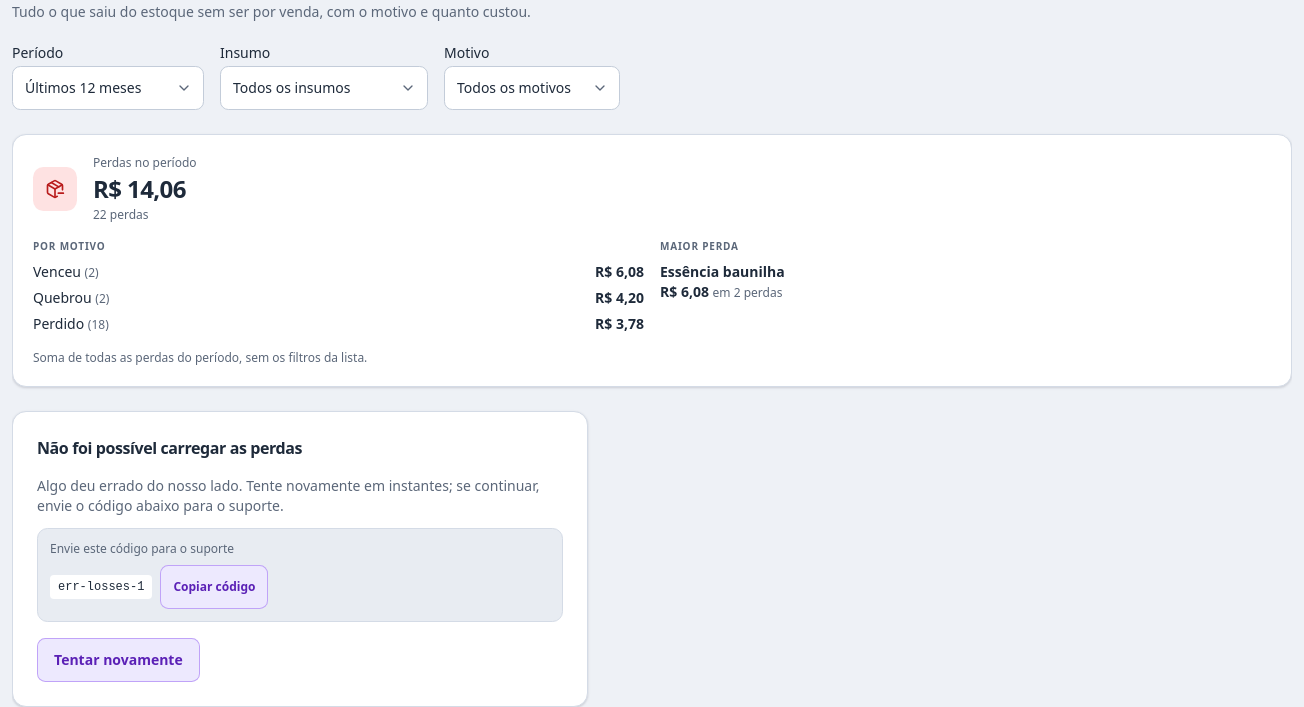
Test case: the loss history › shows the support code of an unexpected failure, and tries again on request
(page scrolled)
Expected: the heading "Não foi possível carregar as perdas" is shown, [37,436,302,460]
Expected: the text "err-losses-1" is shown, [50,575,152,599]
Step 1. Click the button "Tentar novamente" → (118, 660), box [37,638,200,682]
(page scrolled)
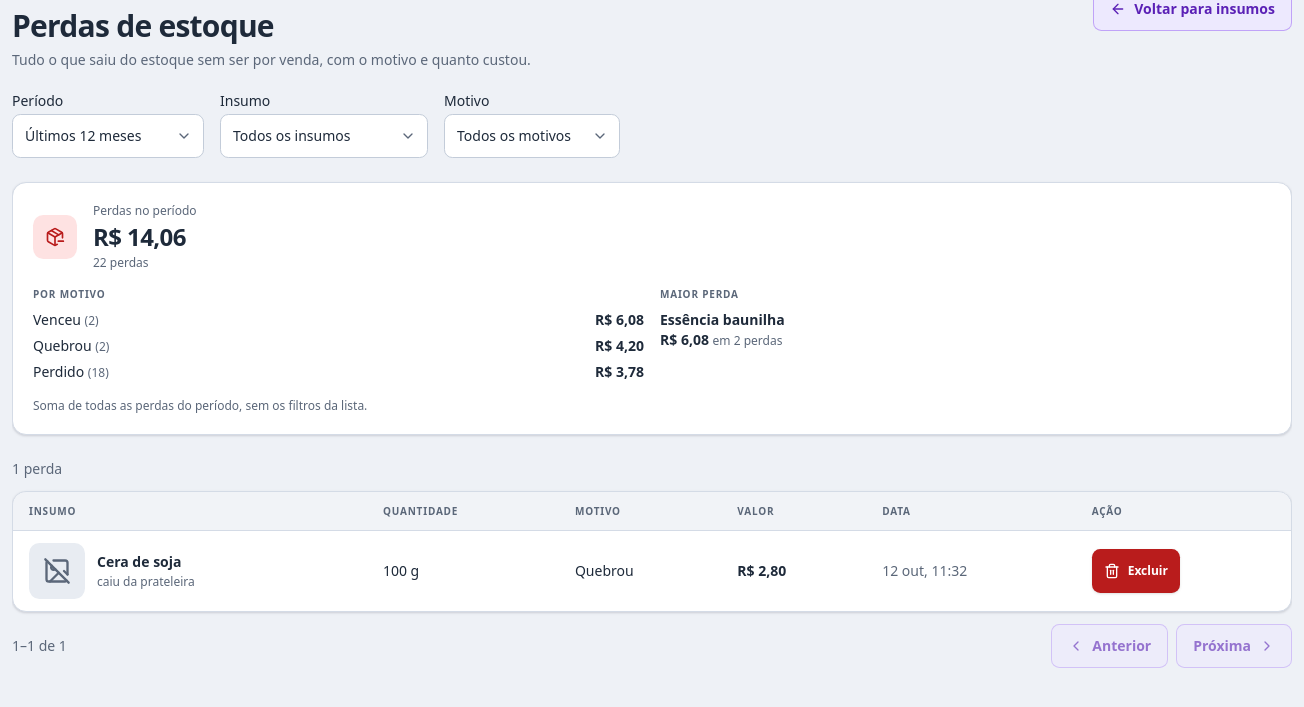
Result: the text "caiu da prateleira" is shown at [97,574,195,590]
